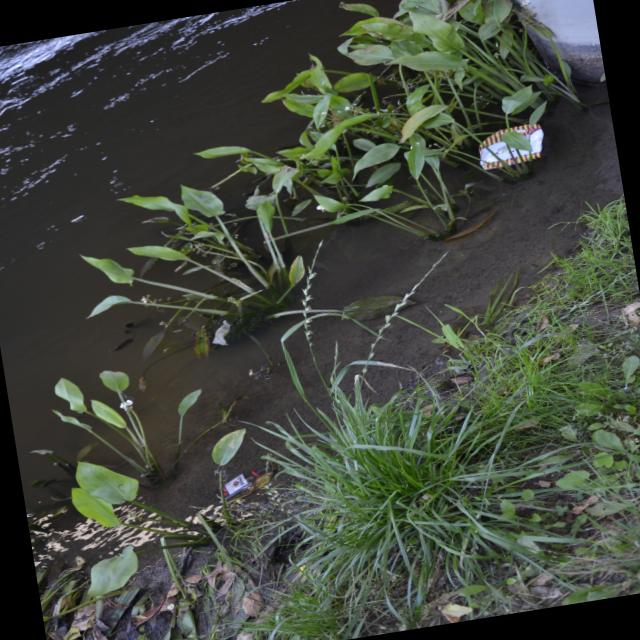Lolium: (342, 256, 474, 428), (286, 238, 358, 436)
